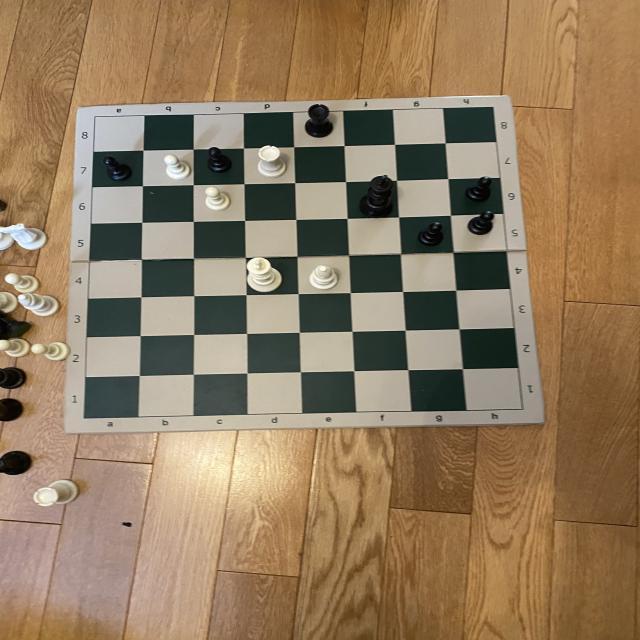chess-table-corners: (78, 414, 92, 424), (88, 112, 101, 121), (486, 103, 498, 112), (520, 405, 526, 413)
